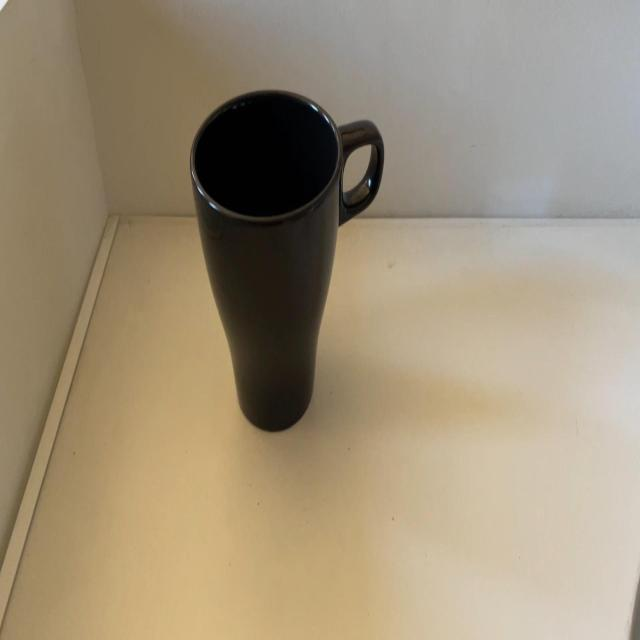cup: (183, 87, 385, 437)
